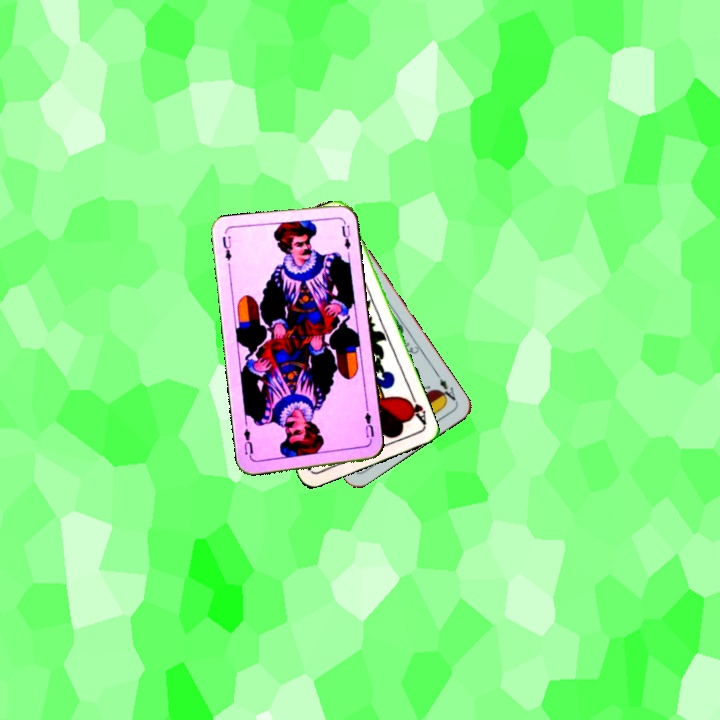EA: (432, 369, 460, 405)
EU: (360, 405, 377, 445), (218, 232, 234, 263)
HA: (401, 388, 429, 427)
